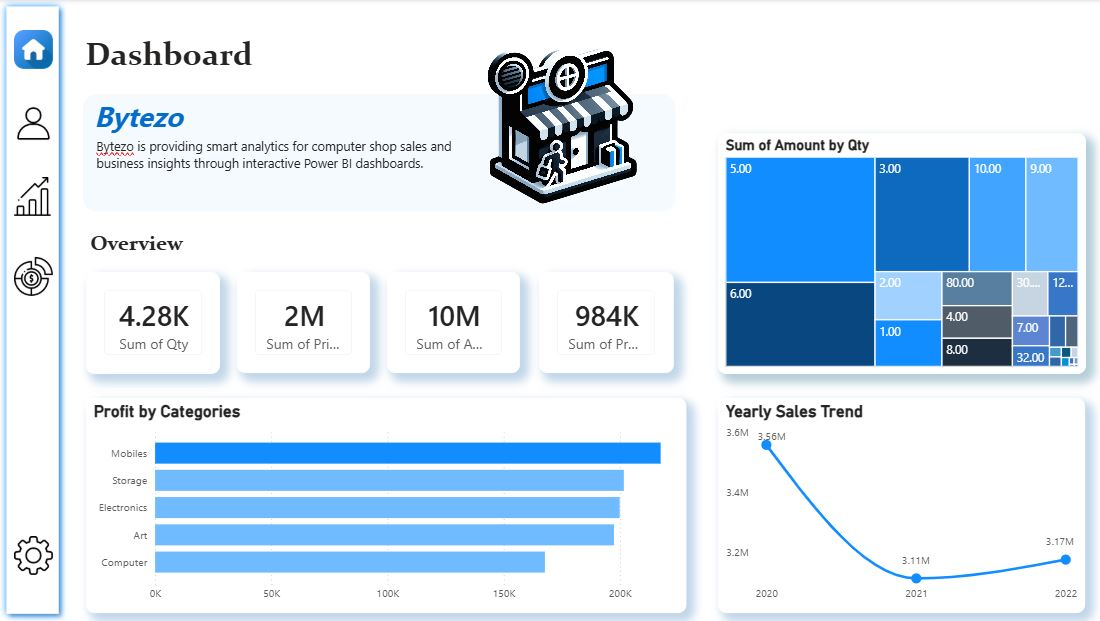

What the dashboard file says about the page in this screenshot:
{"tool":"powerbi","page":{"name":"Page 1","canvas":[1280,720],"ordinal":0},"visuals":[{"type":"shape","box":[97.5,110,686.2,136.2],"z":0},{"type":"image","box":[530,42.5,251.2,203.8],"z":1000},{"type":"textbox","box":[94.9,35.9,223.4,61.4],"z":2000},{"type":"shape","box":[0,0,77.8,720.3],"z":3000},{"type":"image","box":[17.8,35.7,44.6,44.6],"z":4000},{"type":"image","box":[17.8,622.2,44.6,44.6],"z":5000},{"type":"image","box":[17.8,121.1,44.6,44.6],"z":6000},{"type":"image","box":[17.8,298.3,44.6,44.6],"z":7000},{"type":"image","box":[16.6,206.5,44.6,44.6],"z":8000},{"type":"cardVisual","fields":{"Data":["Sum(Data.Qty)"]},"box":[101.2,316.2,155,117.5],"z":9000},{"type":"cardVisual","fields":{"Data":["Sum(Data.Price)"]},"box":[275.4,316.2,154.3,117.3],"z":10000},{"type":"cardVisual","fields":{"Data":["Sum(Data.Profit 10%)"]},"box":[624.7,316.2,155.5,117.3],"z":11000},{"type":"cardVisual","fields":{"Data":["Sum(Data.Amount)"]},"box":[448.8,316.2,154.3,117.3],"z":12000},{"type":"textbox","box":[105.8,107.1,130,54.8],"z":13000},{"type":"textbox","box":[100.7,262.8,126.2,46.3],"z":14000},{"type":"textbox","box":[107.1,155.5,422,73.9],"z":15000},{"type":"clusteredBarChart","title":"Profit by Categories","fields":{"Category":["Data.Category"],"Y":["Sum(Data.Profit 10%)"]},"box":[100.7,461.5,694.8,248.6],"z":16000},{"type":"lineChart","title":"Yearly Sales  Trend","fields":{"Category":["Data.Order Date.Variation.Date Hierarchy.Year","Data.Order Date.Variation.Date Hierarchy.Quarter","Data.Order Date.Variation.Date Hierarchy.Month","Data.Order Date.Variation.Date Hierarchy.Day"],"Y":["Sum(Data.Amount)"]},"box":[832.5,461.5,424.5,248.6],"z":17000},{"type":"treemap","fields":{"Values":["Sum(Data.Amount)"],"Group":["Data.Qty"]},"box":[832.5,155.5,425.8,279.2],"z":17001}]}

Visuals, with their boxes on the page's 1280x720 design canvas (x1, y1, x2, y2). These are canvas units, not pixel positions in the 1100x621 screenshot, which may show the page scaled, cropped or inside an application window:
shape: bbox(98, 110, 784, 246)
image: bbox(530, 42, 781, 246)
textbox: bbox(95, 36, 318, 97)
shape: bbox(0, 0, 78, 720)
image: bbox(18, 36, 62, 80)
image: bbox(18, 622, 62, 667)
image: bbox(18, 121, 62, 166)
image: bbox(18, 298, 62, 343)
image: bbox(17, 206, 61, 251)
cardVisual - Sum(Data.Qty): bbox(101, 316, 256, 434)
cardVisual - Sum(Data.Price): bbox(275, 316, 430, 434)
cardVisual - Sum(Data.Profit 10%): bbox(625, 316, 780, 434)
cardVisual - Sum(Data.Amount): bbox(449, 316, 603, 434)
textbox: bbox(106, 107, 236, 162)
textbox: bbox(101, 263, 227, 309)
textbox: bbox(107, 156, 529, 229)
"Profit by Categories" clusteredBarChart: bbox(101, 462, 796, 710)
"Yearly Sales  Trend" lineChart: bbox(832, 462, 1257, 710)
treemap - Sum(Data.Amount) x Data.Qty: bbox(832, 156, 1258, 435)
